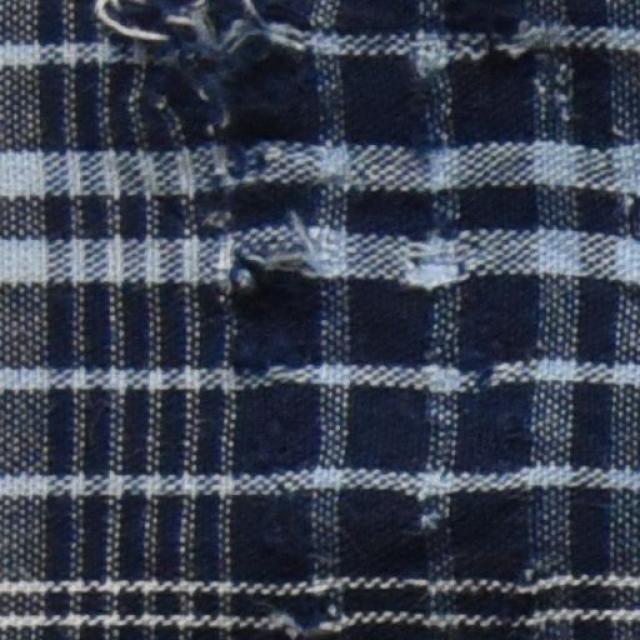Snag: (101, 0, 319, 128), (221, 202, 322, 313), (389, 221, 489, 307), (472, 8, 553, 75)
